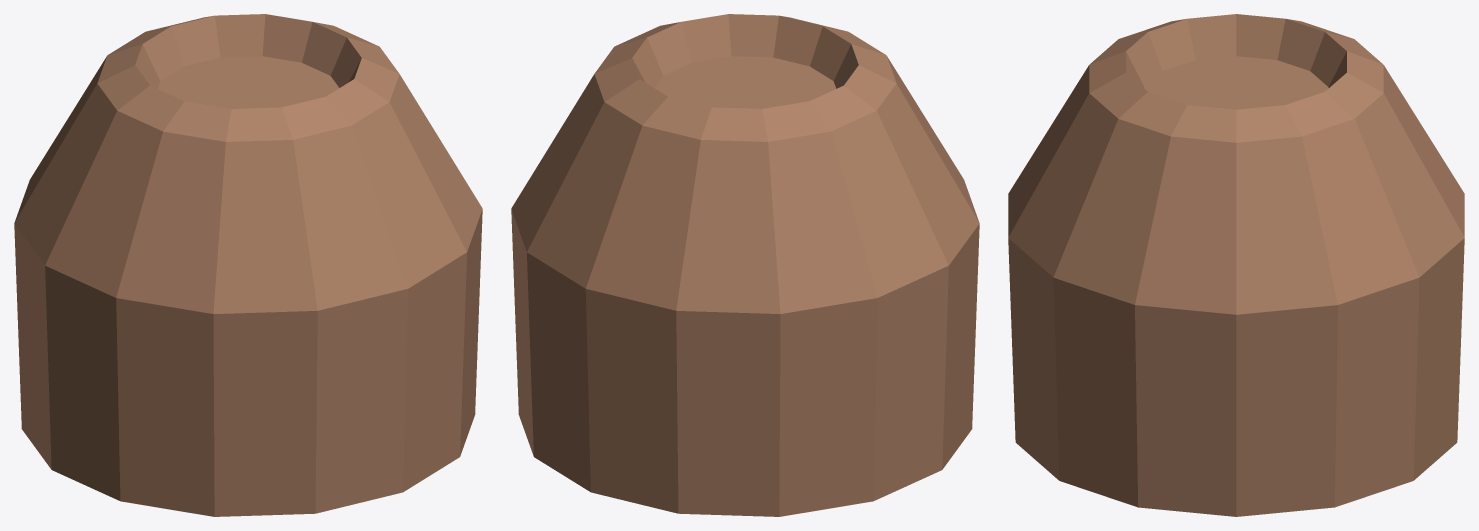
File: tandyr_oven.glb
3 views of the same model, side by side, from view 1: azimuth 30°, elevation 25°; view 2: azimuth 150°, elevation 25°; view 3: azimuth 270°, elevation 25° (orthographic).
Parts seen in each view (by area): view 1: Tandyr_Oven; view 2: Tandyr_Oven; view 3: Tandyr_Oven.
Part boxes in pixels (x1,y1,x2,y2): Tandyr_Oven: [14, 14, 482, 516]; Tandyr_Oven: [511, 14, 979, 516]; Tandyr_Oven: [1008, 14, 1464, 516].
Size of the model in its own units: 1.24 by 1.05 by 1.21.
